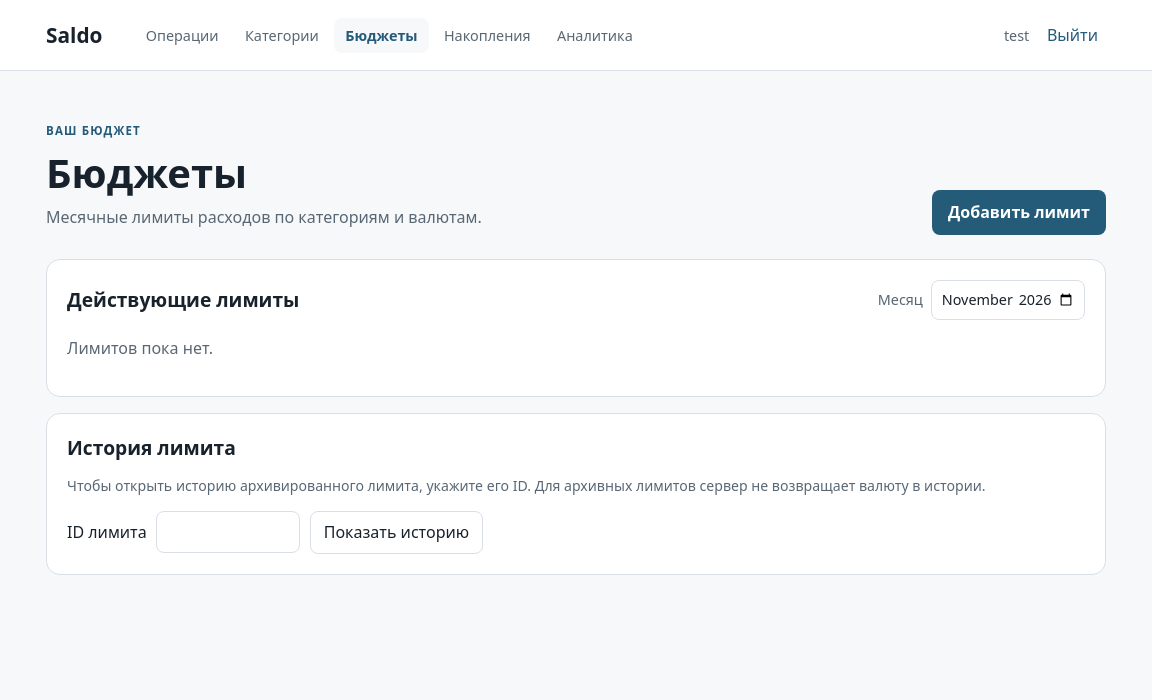
budgets › shows duplicate limit errors
This screenshot has width=1152, height=700.
Expected: the text "Лимитов пока нет." is shown, 67,337 -> 213,359
Click the button "Добавить лимит".
click(1019, 212)  # box 932,190 -> 1106,235
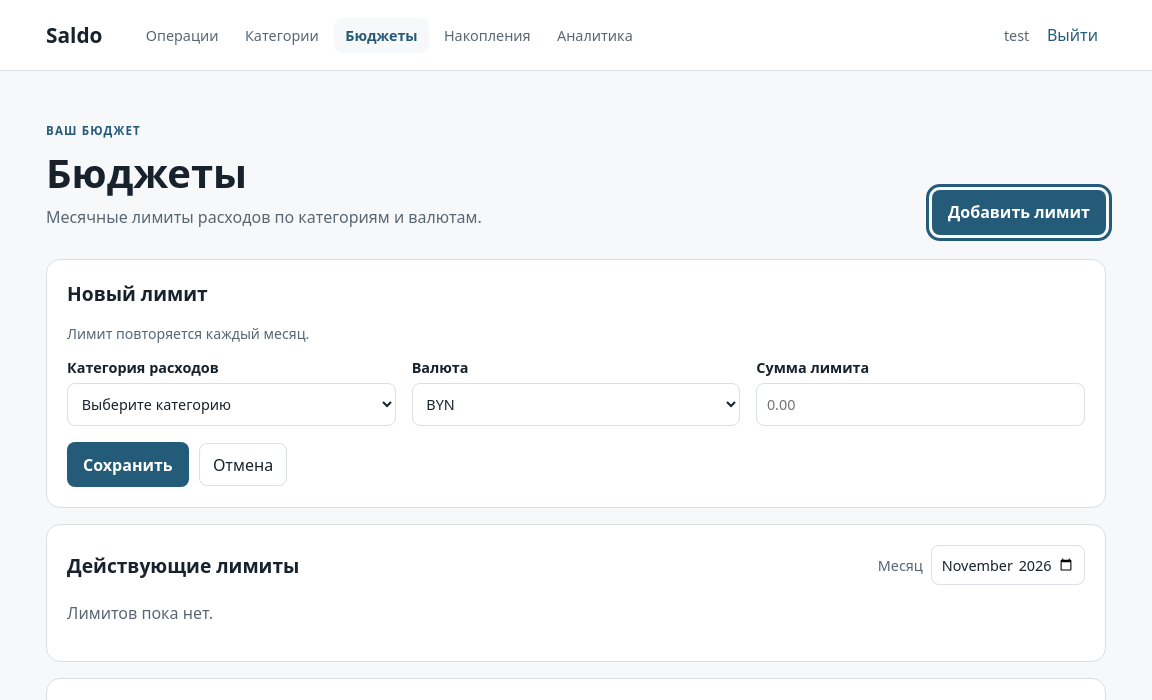
Select "Еда" in the dropdown labelled "Категория расходов" at (231, 405), box 67,383 -> 396,426
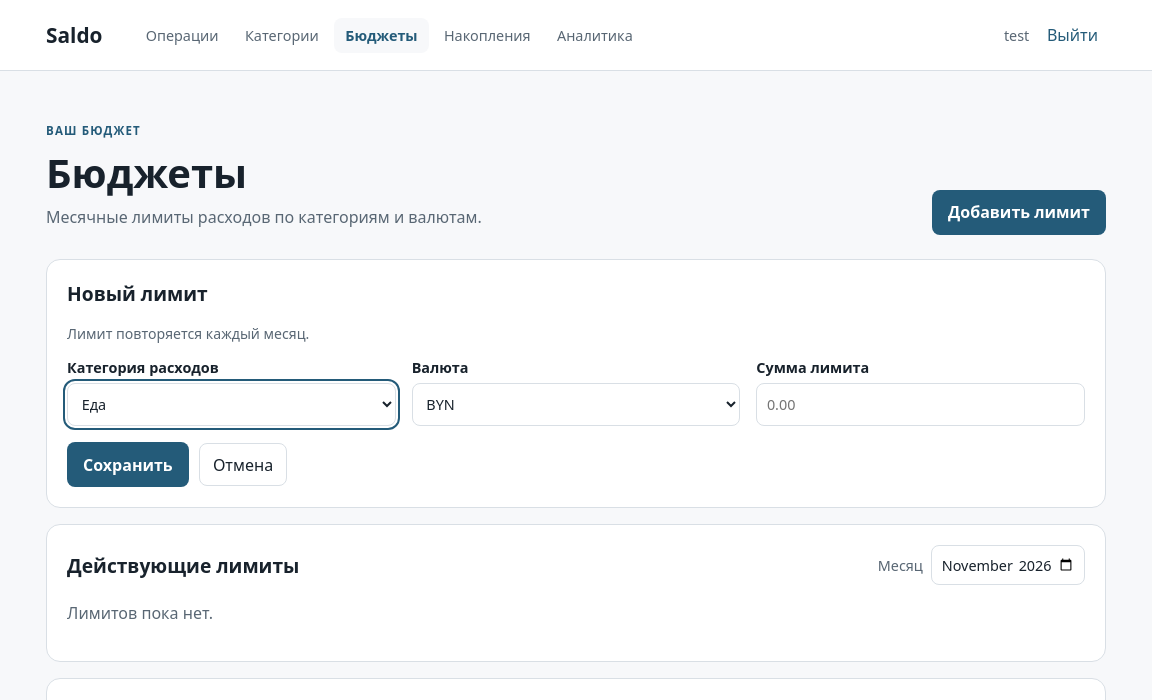
Type "100" into the field labelled "Сумма лимита".
click(921, 405); type("100")  # box 756,383 -> 1085,426
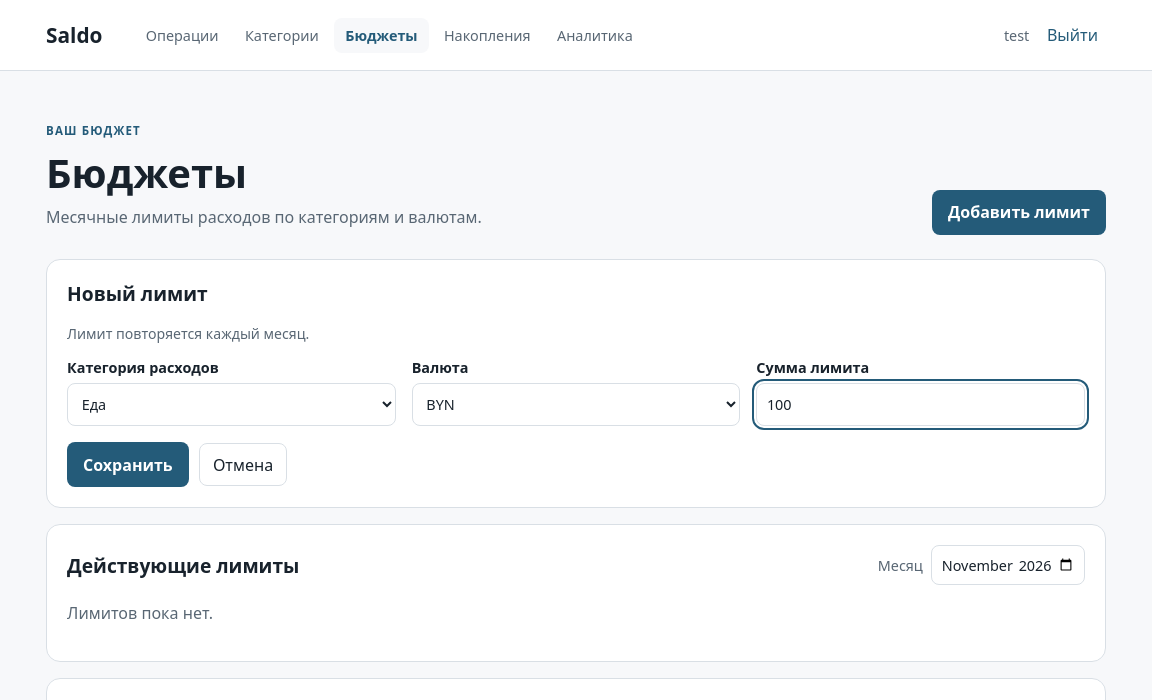
Click the button "Сохранить".
click(128, 465)  # box 67,442 -> 189,487
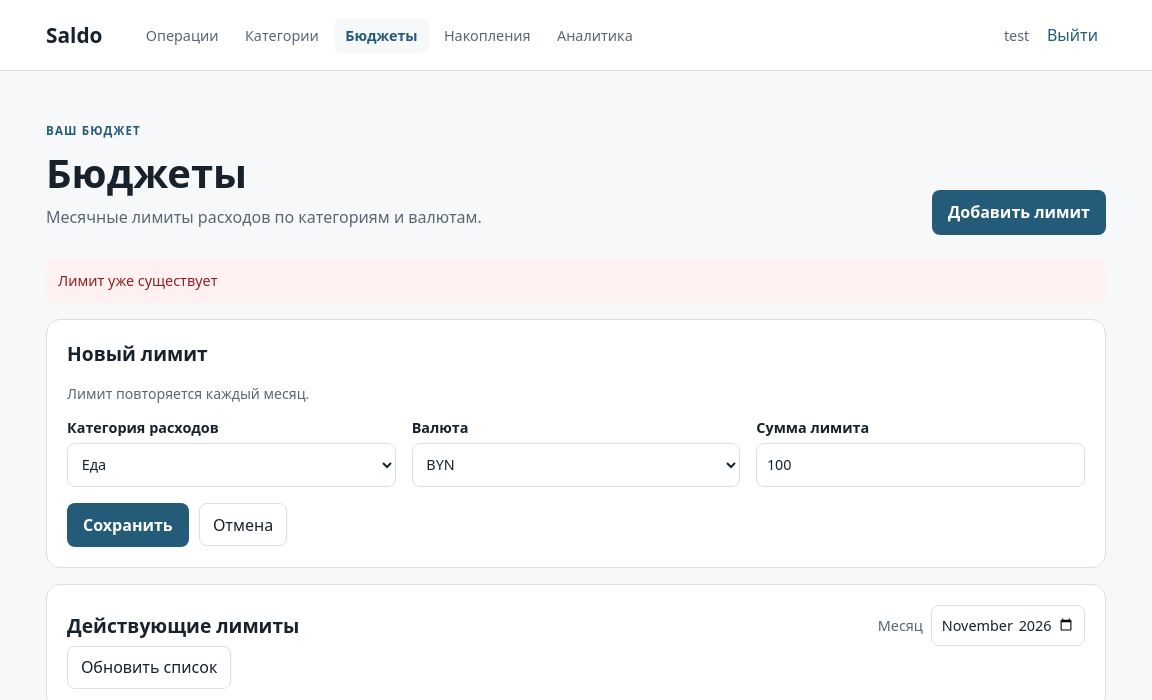
Expected: the message reads "Лимит уже существует", 58,271 -> 218,290
